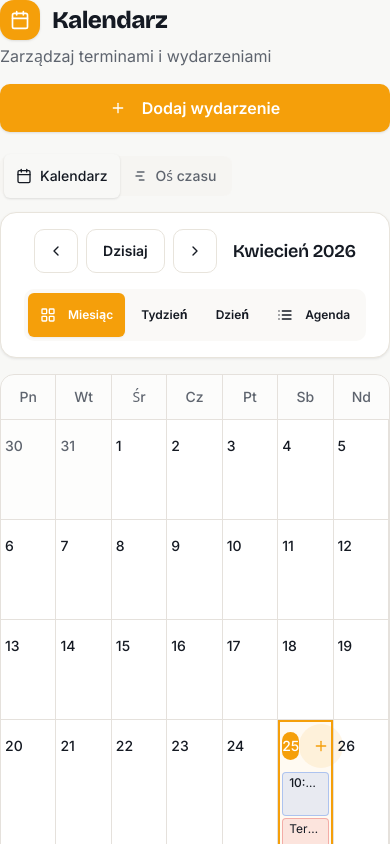
Calendar › [REGRESSION] add new event — no crash › should open event dialog without crashing when Add Event is clicked
Click the button "Dodaj wydarzenie" at coordinates (195, 108), box [0, 84, 389, 132]
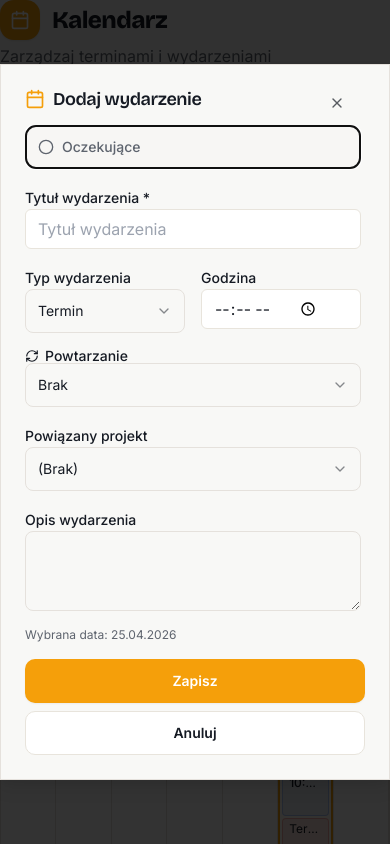
Now the dialog is shown
